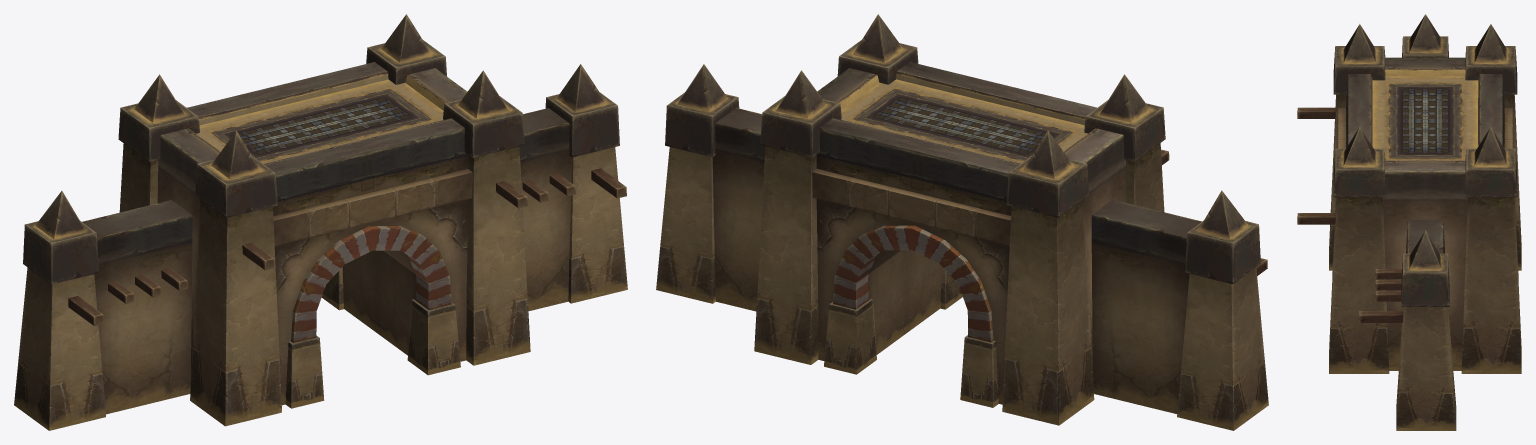
File: building_shamo_jianzhu07.FBX
3 views of the same model, side by side, from view 1: azimuth 30°, elevation 25°; view 2: azimuth 150°, elevation 25°; view 3: azimuth 270°, elevation 25° (orthographic). The views are drawn at different scales.
Parts seen in each view (by area): view 1: building_shamo_jianzhu07; view 2: building_shamo_jianzhu07; view 3: building_shamo_jianzhu07.
Boxes of the visible parts, x1,y1,x2,y2 form: building_shamo_jianzhu07: (14,14,627,430); building_shamo_jianzhu07: (656,14,1268,430); building_shamo_jianzhu07: (1297,14,1521,430).
Bounding box in the file's own units: 28.08 × 12.79 × 11.05.
